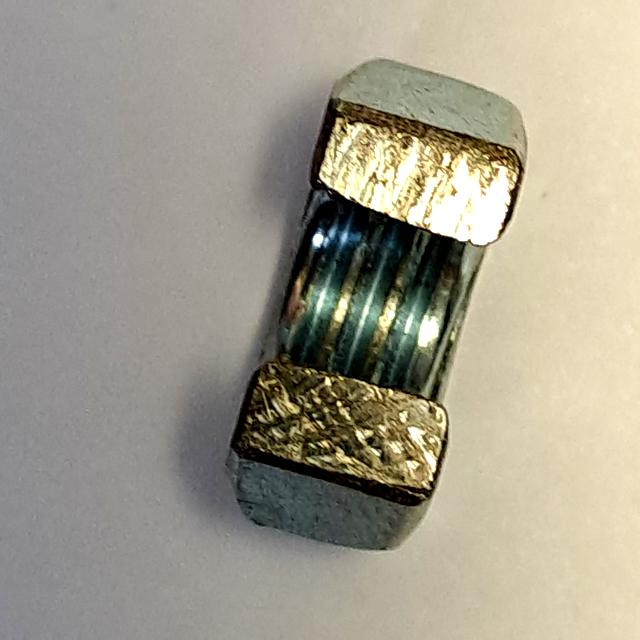Side-Fracture: (207, 43, 539, 569)
